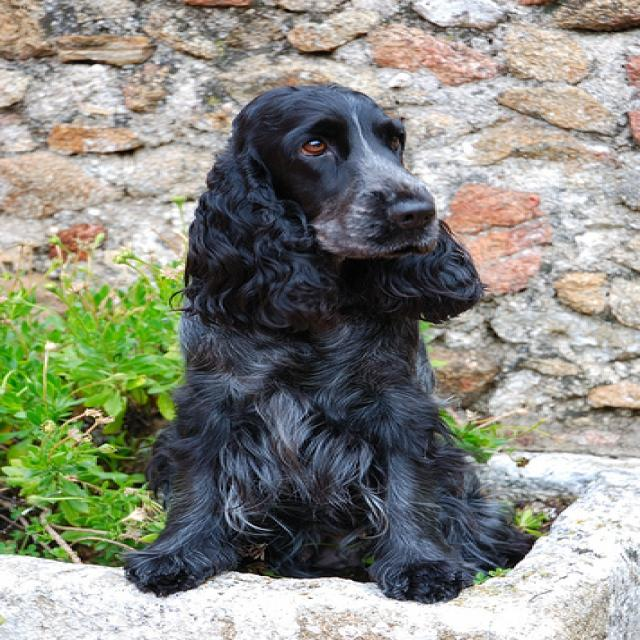dog-english_cocker_spaniel: (108, 77, 541, 612)
